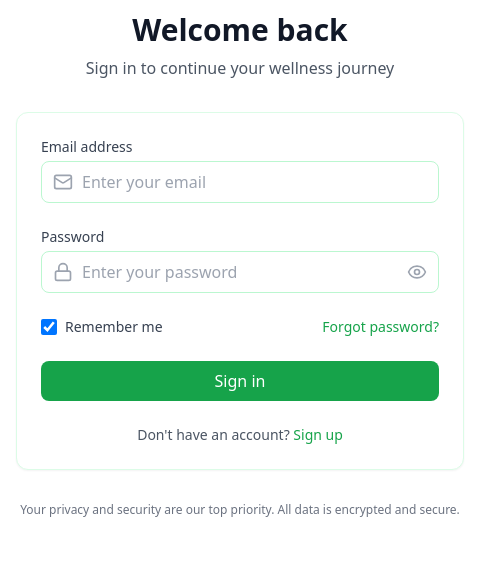
Login Page › displays validation errors on empty submit
Click the button "Sign in": click(240, 381) [41, 361, 439, 401]
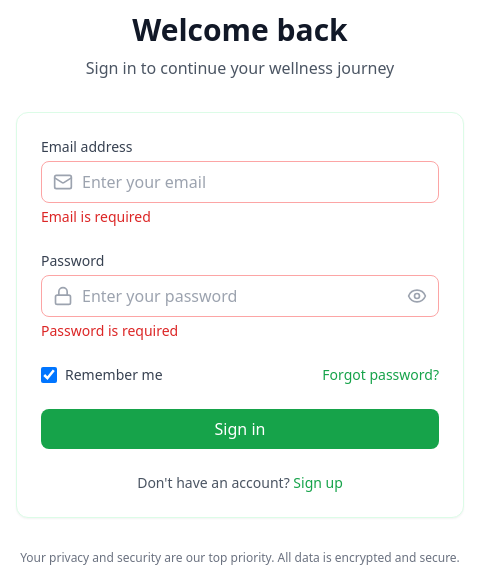
Now the text "Email is required" is shown, box [41, 207, 151, 226]
Now the text "Password is required" is shown, box [41, 321, 178, 340]
